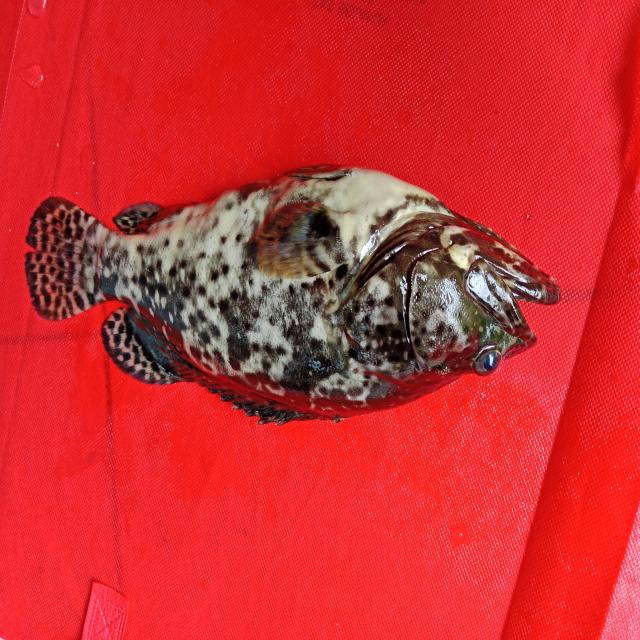ikan: (18, 146, 566, 431)
